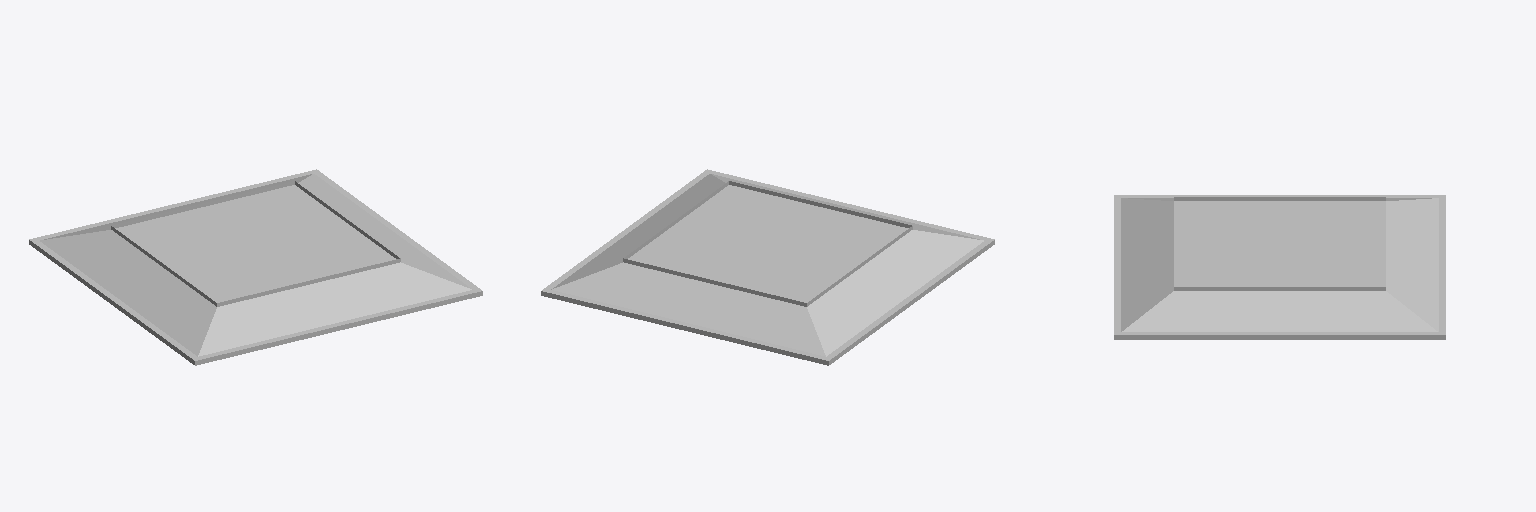
File: bottomApplication111.obj
The picture shows the model from 3 angles: view 1: azimuth 30°, elevation 25°; view 2: azimuth 150°, elevation 25°; view 3: azimuth 270°, elevation 25°; orthographic projection.
Visible parts, largest first — view 1: Cube_Cube.002; view 2: Cube_Cube.002; view 3: Cube_Cube.002.
Part boxes in pixels (left/top/right/bottom): Cube_Cube.002: left=29, top=169, right=482, bottom=365; Cube_Cube.002: left=541, top=169, right=994, bottom=365; Cube_Cube.002: left=1114, top=195, right=1445, bottom=339.
Bounding box in the file's own units: 3.14 × 0.292 × 3.14.